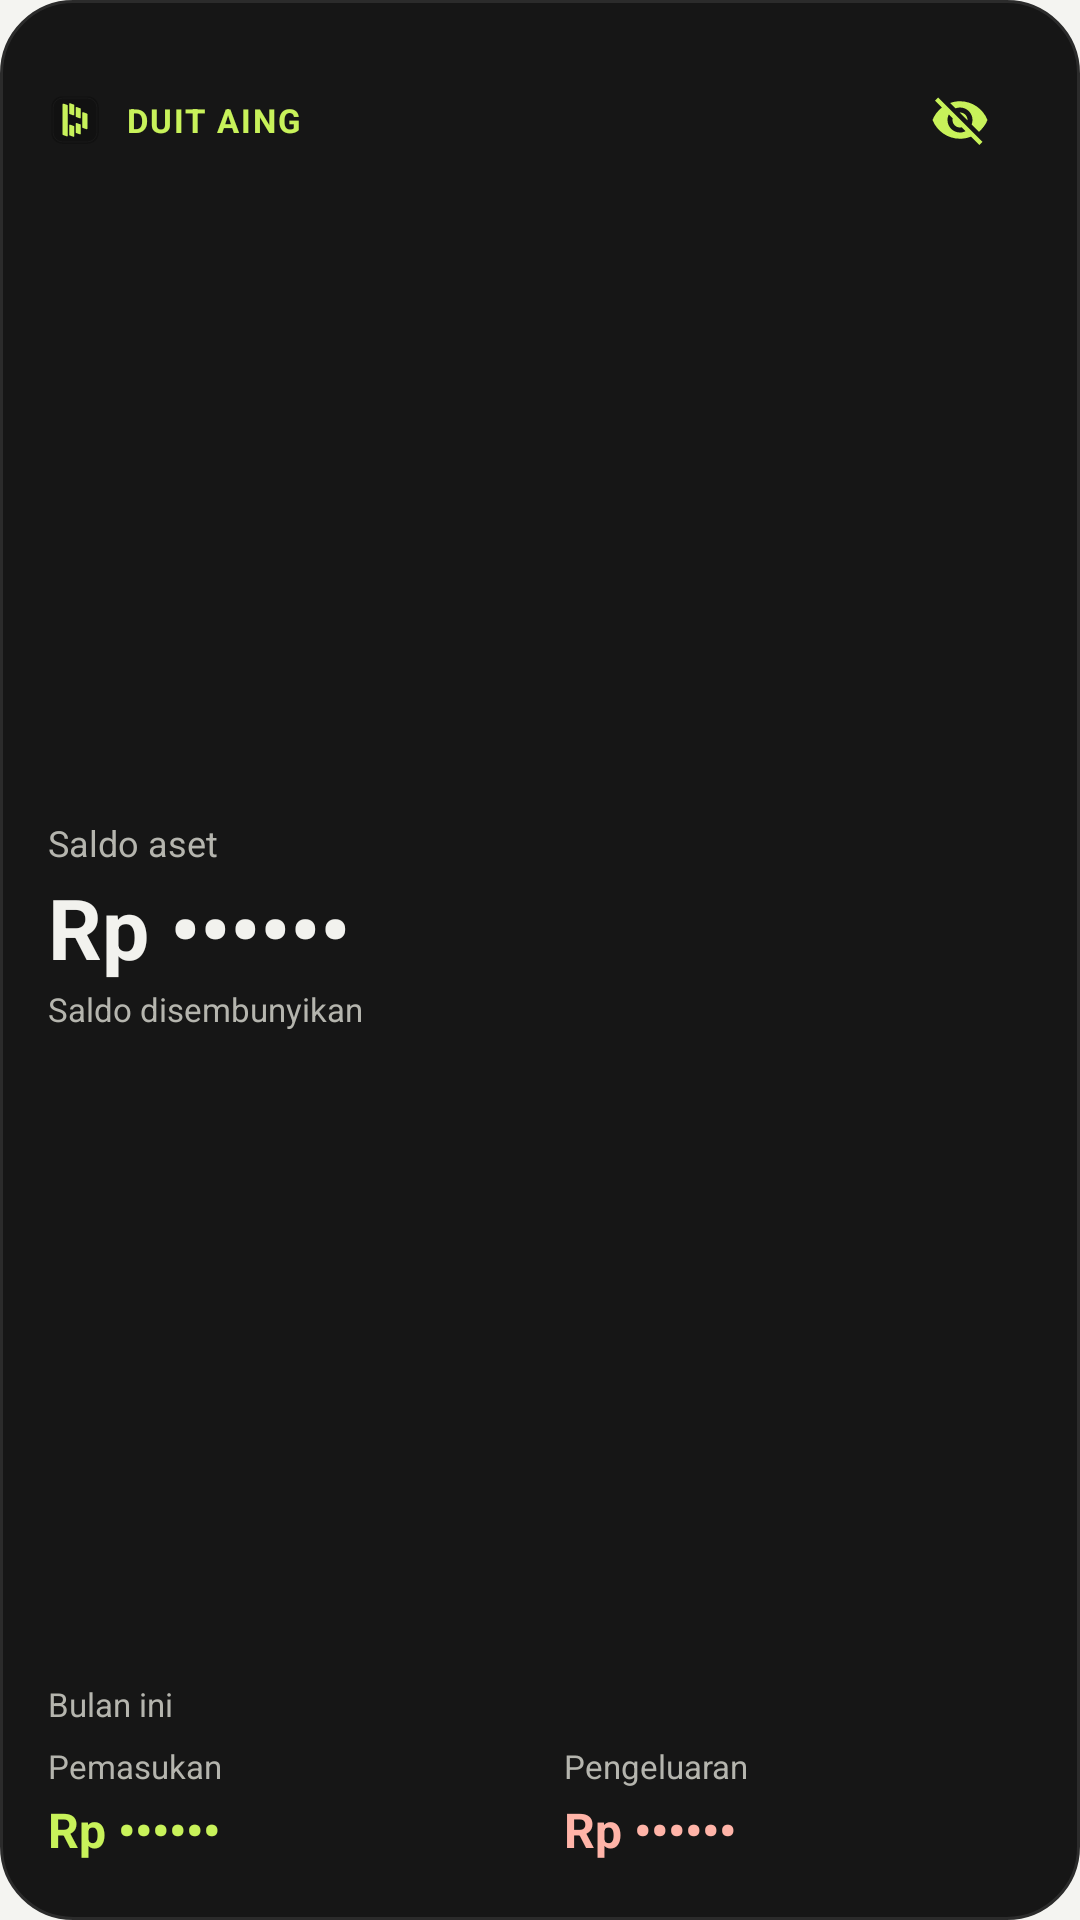

Icons on this 1080 × 1920 Android screen, each with the point to tap as (x=x, y=y):
Tampilkan saldo: (x=960, y=121)
